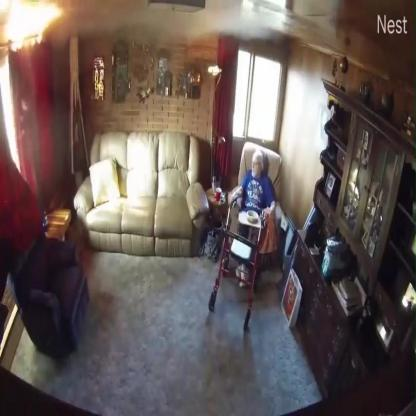fire: (5, 6, 62, 52)
